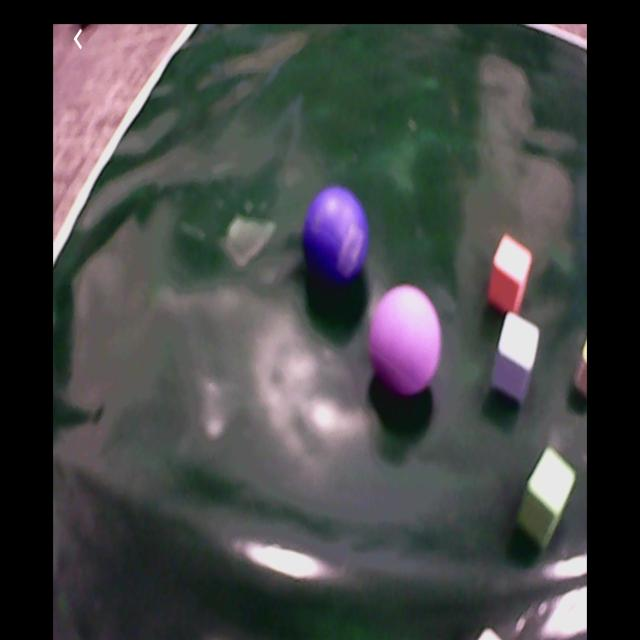ball: (371, 285, 442, 398), (306, 187, 369, 282)
